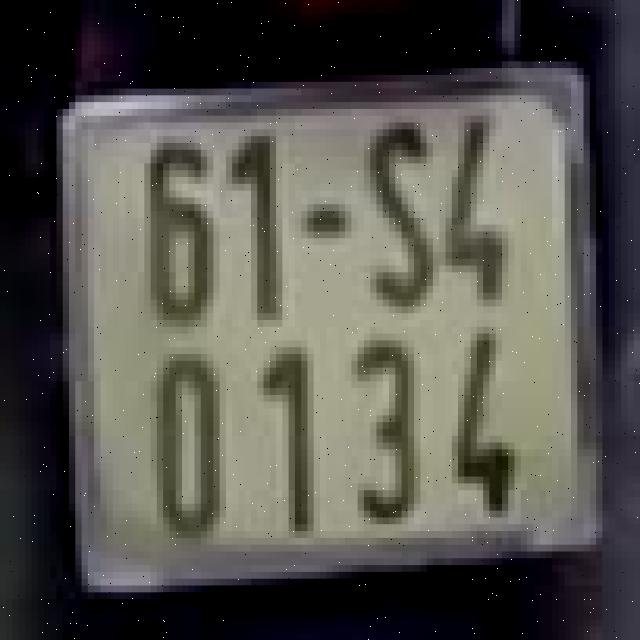0: (141, 337, 229, 548)
1: (220, 119, 295, 344), (251, 337, 326, 548)
3: (336, 327, 442, 531)
4: (446, 323, 527, 521), (439, 105, 515, 310)
6: (128, 129, 222, 327)
S: (358, 112, 446, 310)
